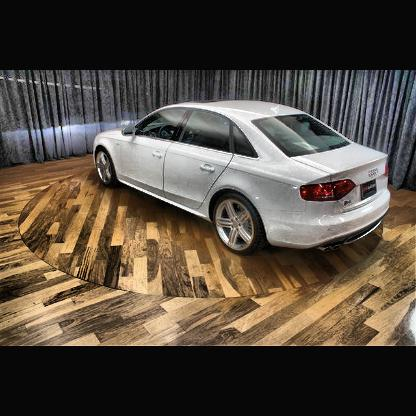Audi S4 Sedan 2012: (91, 99, 392, 256)
